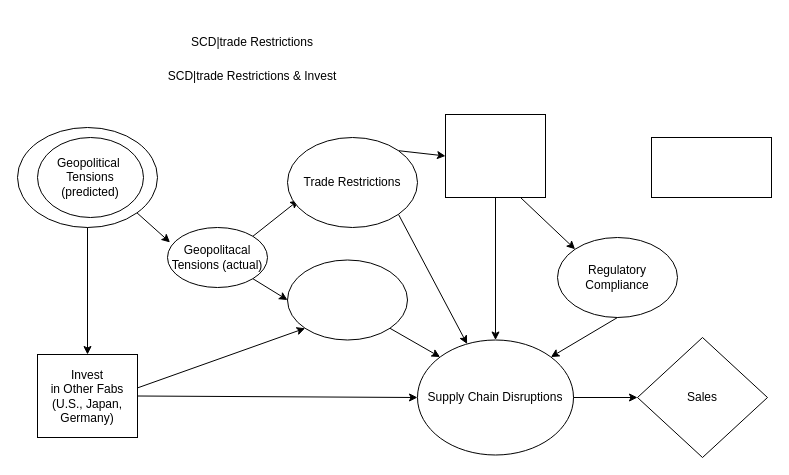
Image size: 789x475. Some labels were removed from this diagram. Each missing label, with the box of its shape:
Diversify Suppliers: (444, 114, 546, 198)
KPI = Over next 6 quarters: (650, 136, 772, 198)
Manufacturing Delays: (286, 259, 408, 340)
